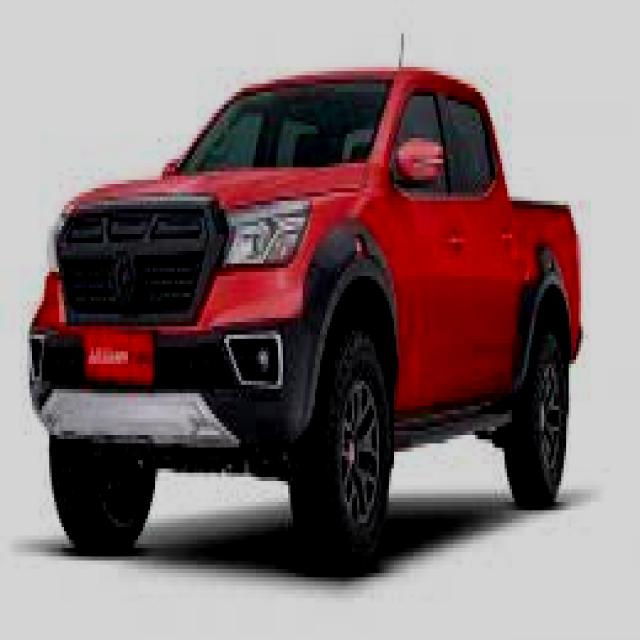CMT: (30, 57, 583, 576)
